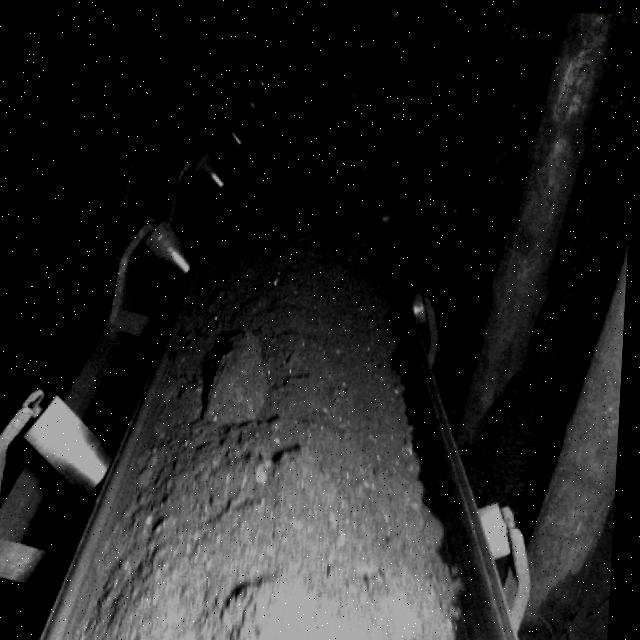large_sized_coal: (210, 332, 274, 420)
